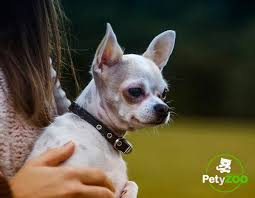chihuahua: (10, 17, 178, 198)
